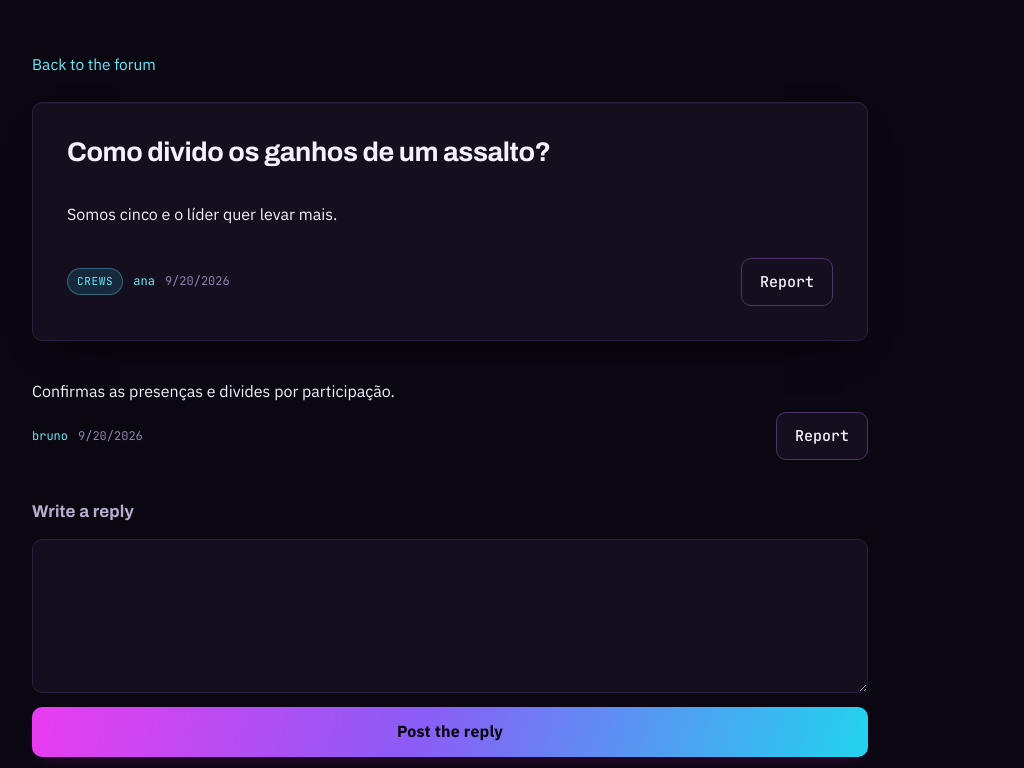
Test: denunciar uma publicação › diz que recebeu, e não deixa denunciar outra vez
Click the button "Report" in the row of "ana" at (787, 282), box [741,258,833,306]
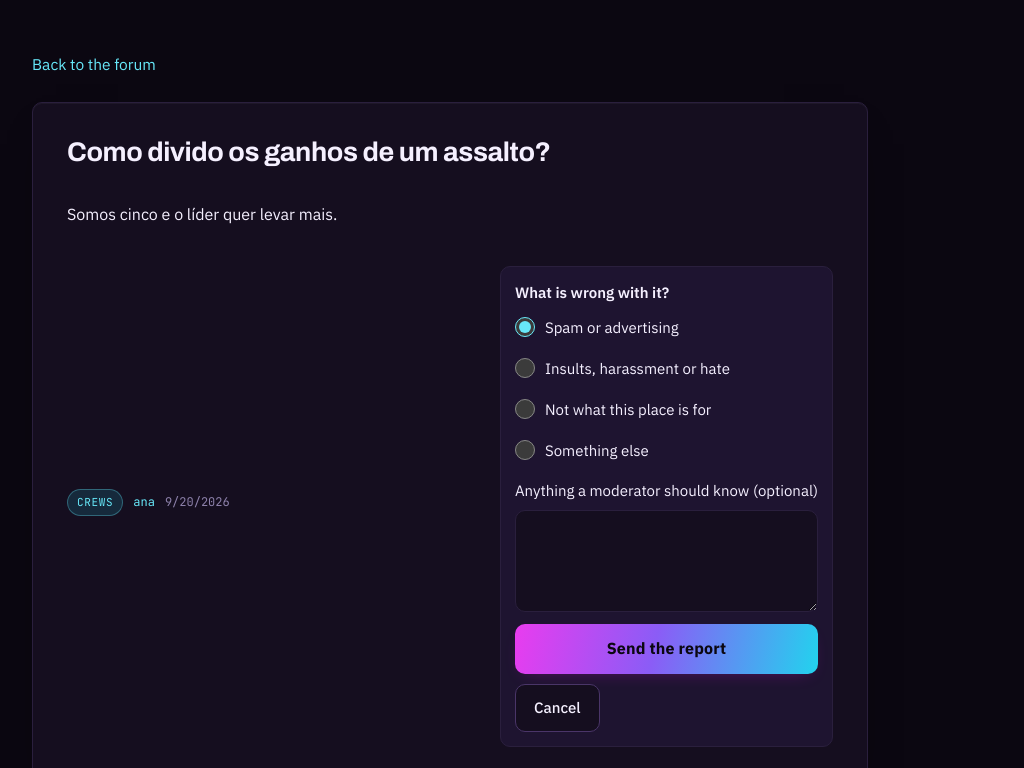
Click the button "Send the report" at (666, 649), box [515,624,818,674]
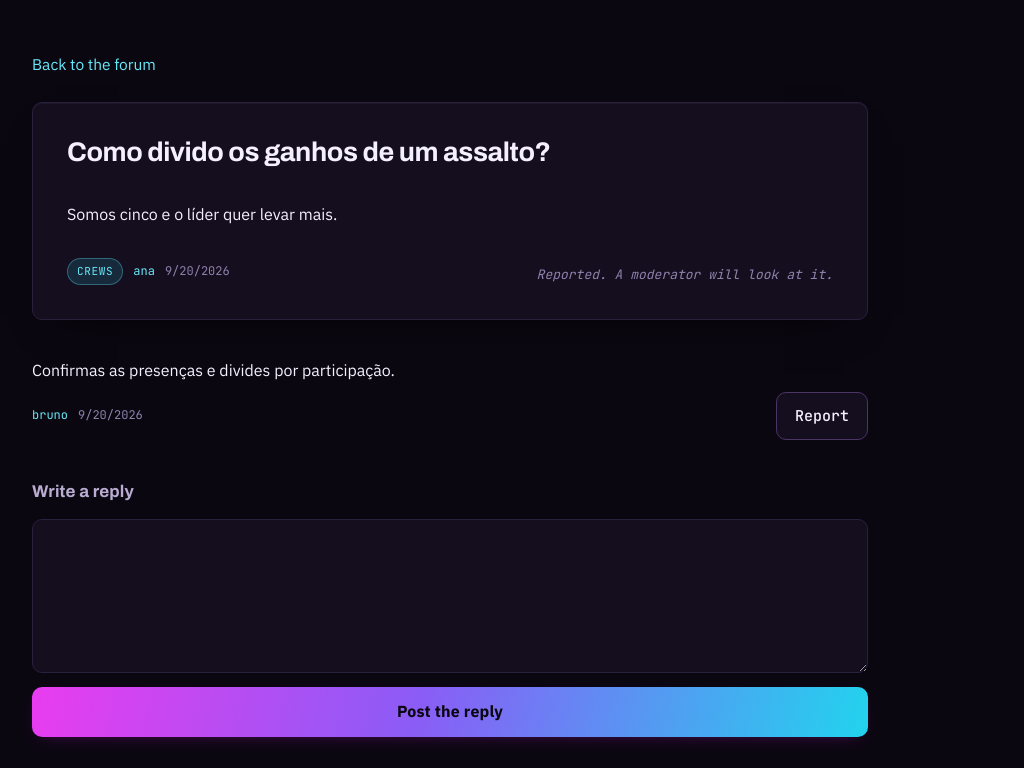
Expected: the text "Reported. A moderator will look at it." is shown, [537,266,833,285]
Expected: the number of buttons "Report" is 1, [776,392,868,440]
